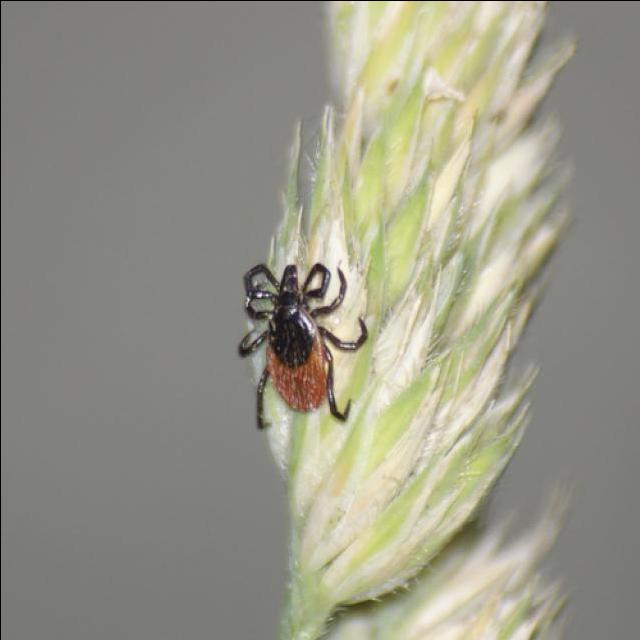Ixodes Ricinus-F: (237, 263, 369, 428)
